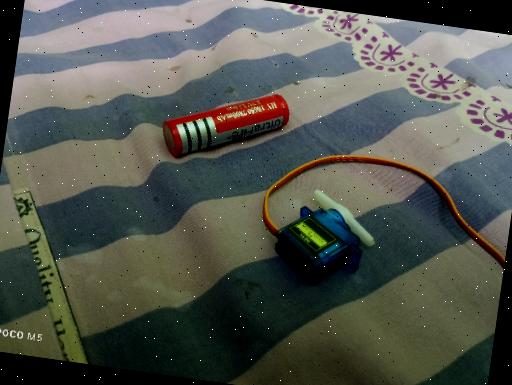Battery: (158, 77, 292, 172)
Motor: (270, 183, 382, 291)
